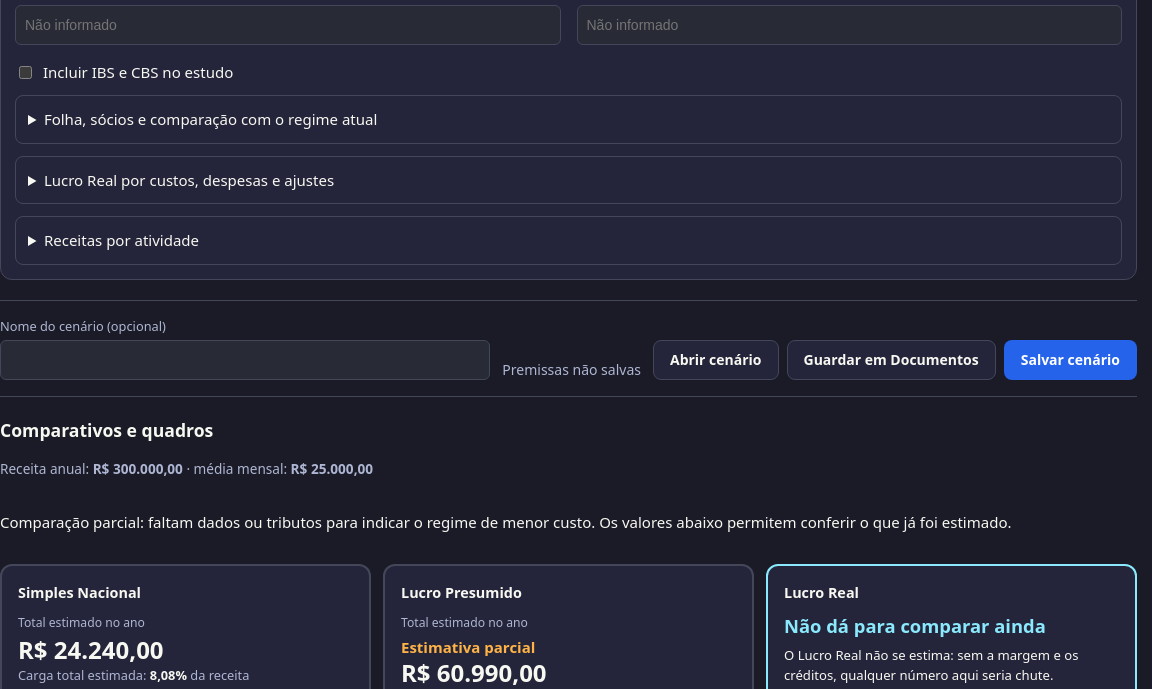
falha do PDF mantém premissas e permite tentar novamente
The image size is (1152, 689).
(page scrolled)
Step 1. Type "Estudo revisado" into the field labelled "Nome do cenário (opcional)" → (245, 360), box [0,340,490,380]
(page scrolled)
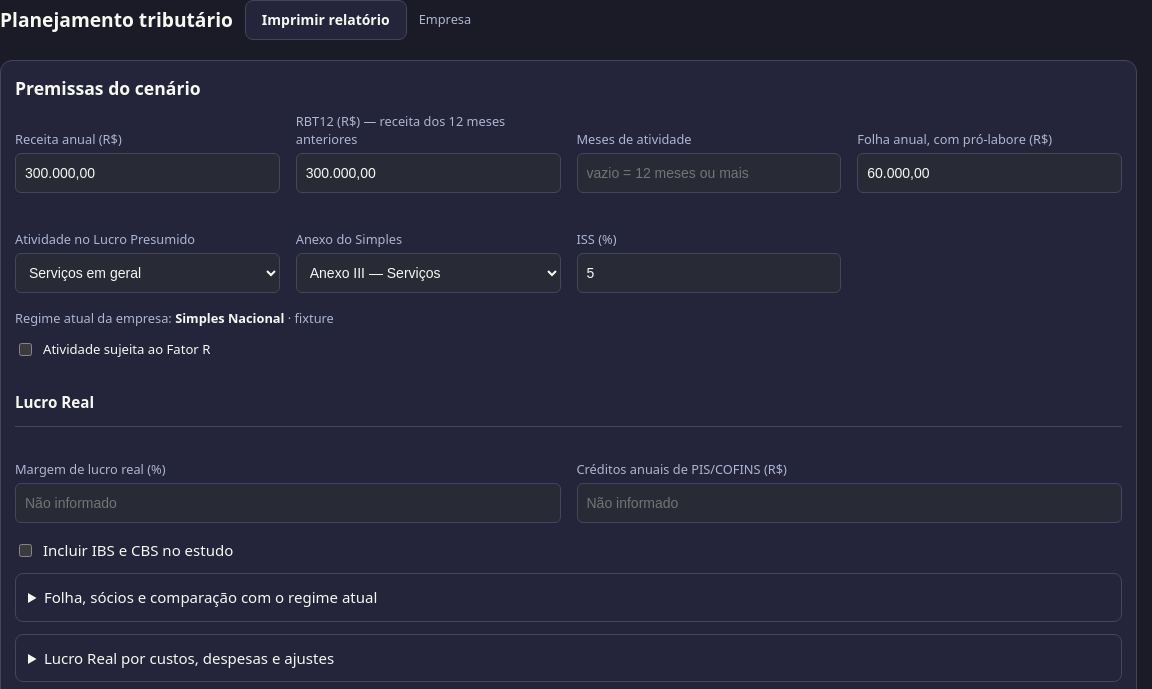
Step 2. Click the button "Imprimir relatório" → (326, 20), box [245,0,407,40]
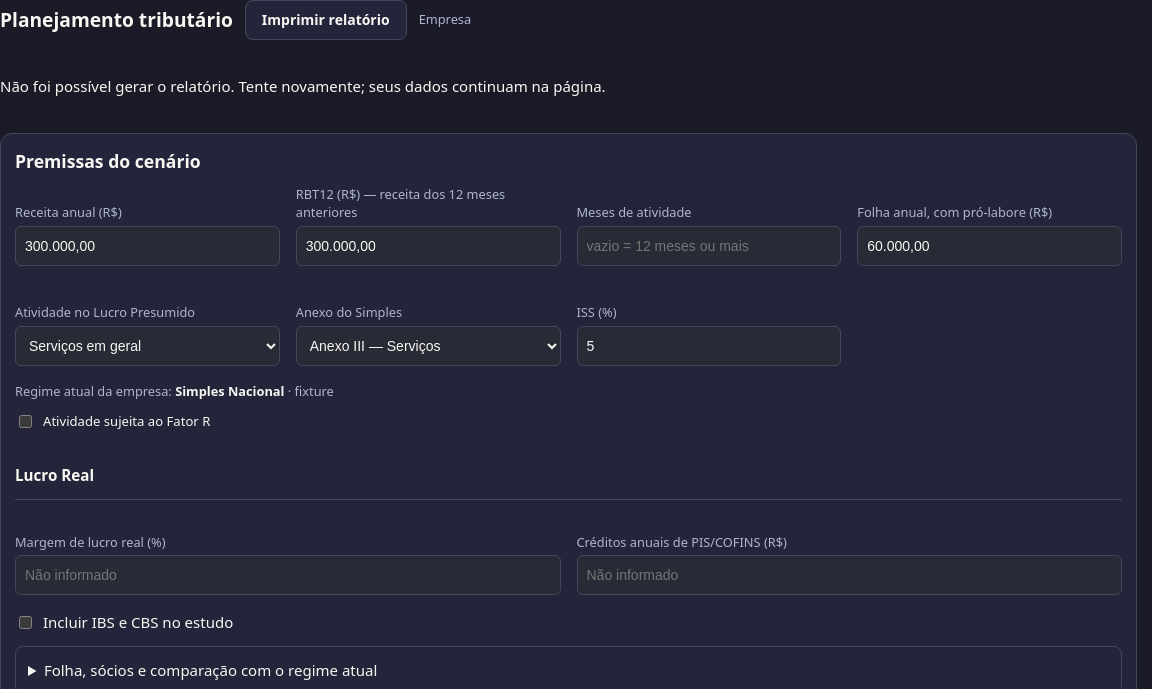
Now the message shows "seus dados continuam na página", box [0,76,606,96]
